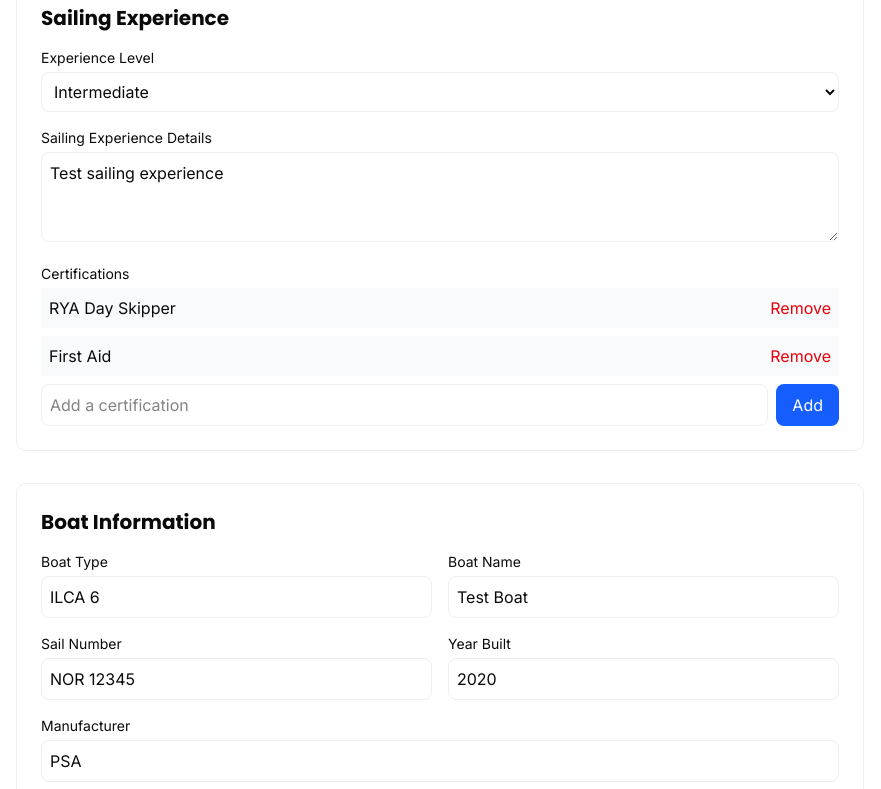
Test: ProfileEditForm Component › Form Editing and Interaction › should handle certification management
The width and height of the screenshot is (881, 789).
(page scrolled)
Note: Add a new certification
Step 1. Type "New Certification" into the field with placeholder "Add a certification" → (405,405), box x1=41 y1=384 x2=768 y2=426
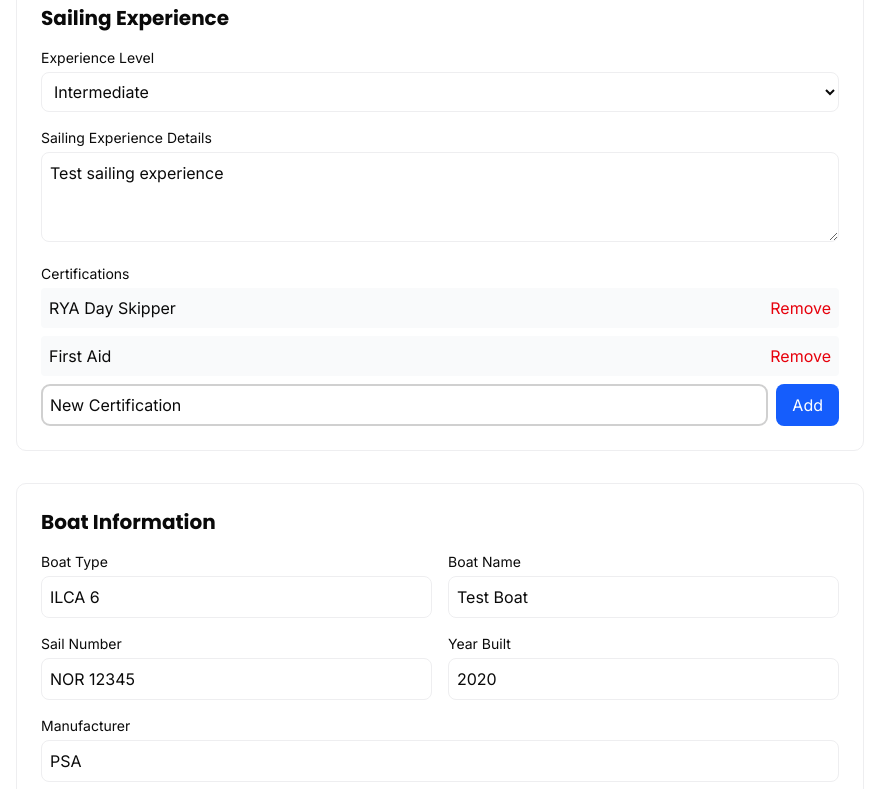
Step 2. Click the button "Add" → (808,405), box x1=776 y1=384 x2=839 y2=426
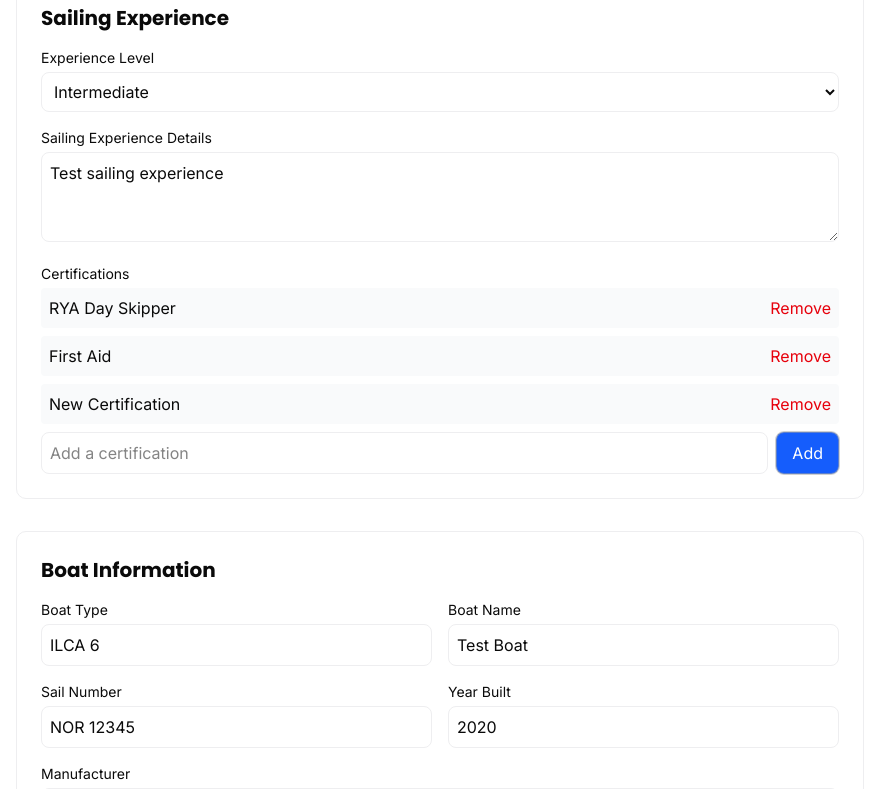
Expected: the text "New Certification" is shown, x1=49 y1=392 x2=180 y2=416
Expected: the field with placeholder "Add a certification" is empty, x1=41 y1=432 x2=768 y2=474
Note: Remove a certification
Step 3. Click the button "Remove" in the row of "RYA Day Skipper" → (801,308), box x1=770 y1=296 x2=831 y2=320
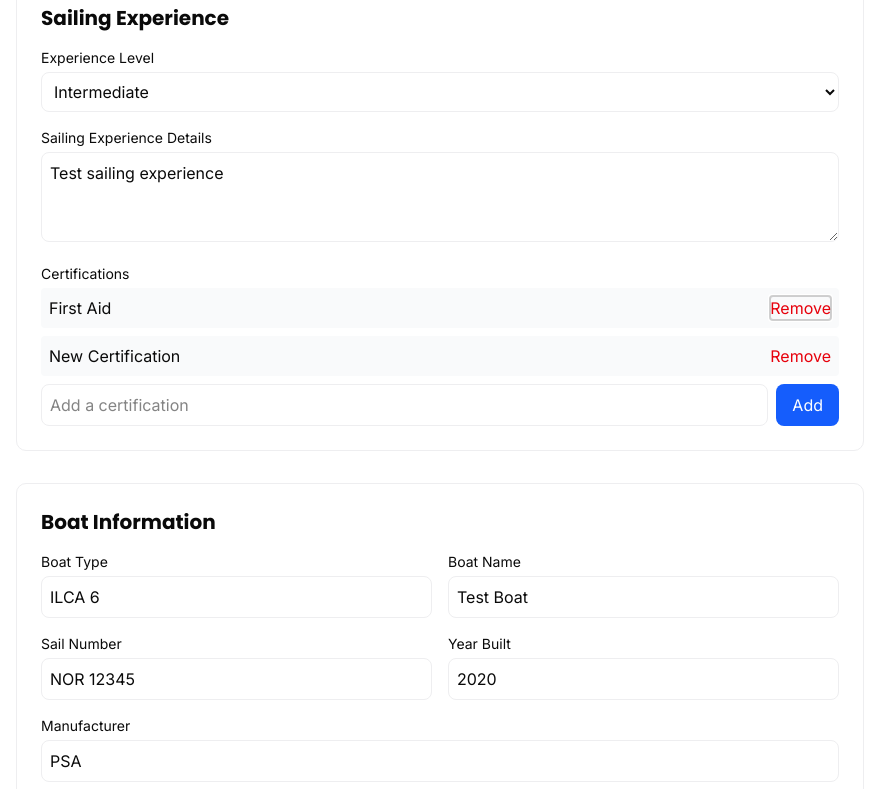
Expected: the text "RYA Day Skipper" is gone
